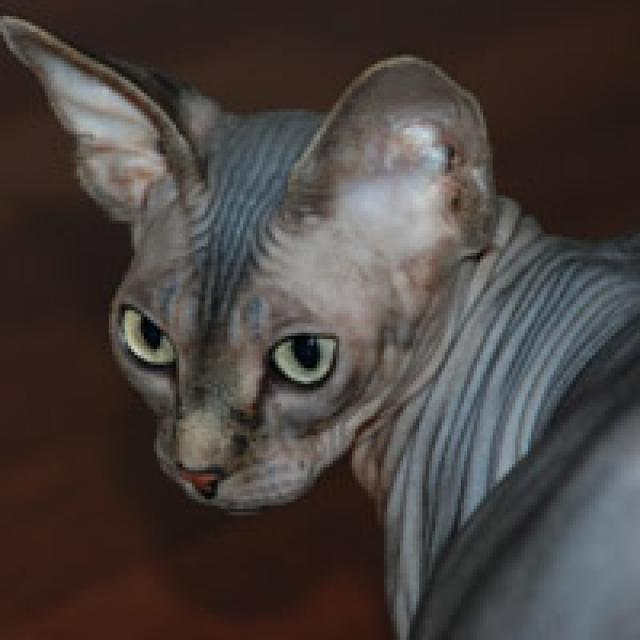Sphynx: (0, 0, 514, 521)
